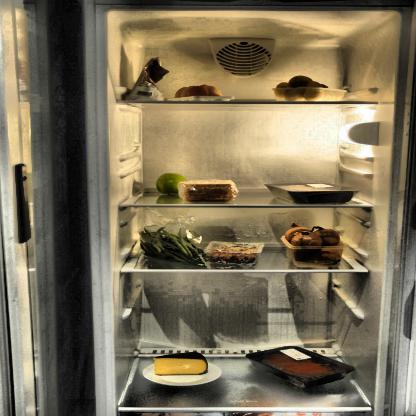apple: (154, 169, 186, 198)
beef: (260, 348, 342, 385)
cheese: (152, 353, 210, 377)
eggs: (176, 84, 224, 102)
green_beans: (134, 216, 209, 265)
onion: (283, 225, 346, 268)
potato: (268, 76, 338, 104)
shrimp: (206, 244, 261, 264)
